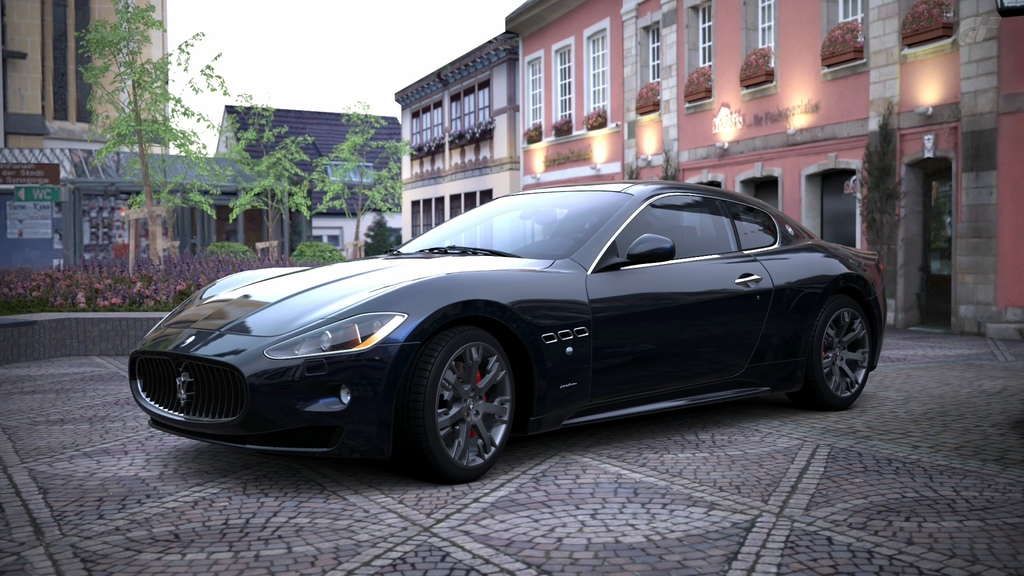Car: (129, 177, 894, 486)
